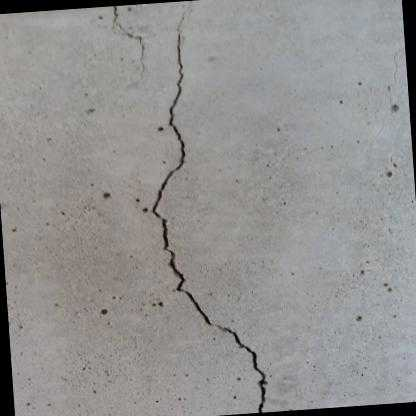crack: (152, 34, 265, 413), (112, 6, 144, 73)
